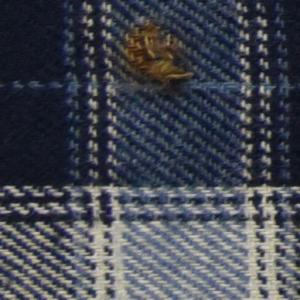Damage: (121, 20, 189, 85)
Oil Stain: (112, 15, 201, 106)
